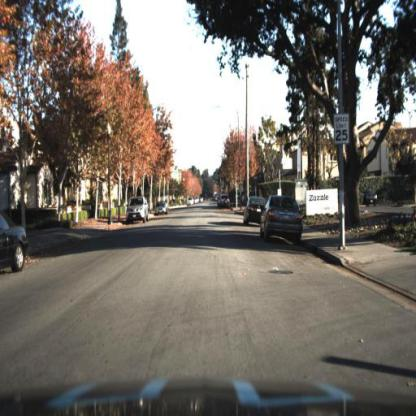car: (259, 194, 306, 243), (1, 207, 30, 274), (243, 192, 270, 228), (125, 193, 151, 226), (359, 190, 382, 212), (363, 189, 379, 208), (154, 202, 169, 220), (220, 192, 232, 208), (185, 194, 195, 210)
